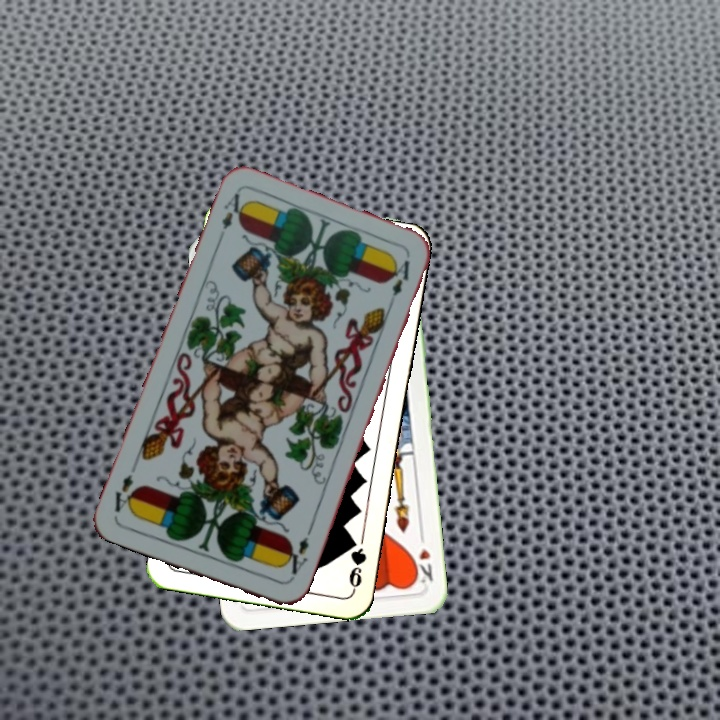EA: (214, 189, 249, 245), (279, 532, 312, 584)
G9: (345, 533, 369, 594)
HK: (409, 528, 435, 588)
